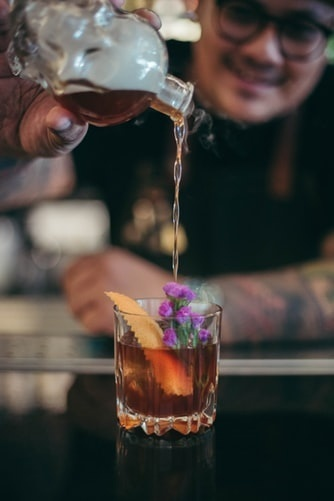whiskey: (118, 299, 223, 436)
